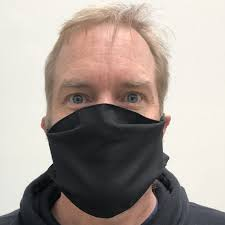FaceMask: (46, 104, 164, 218)
